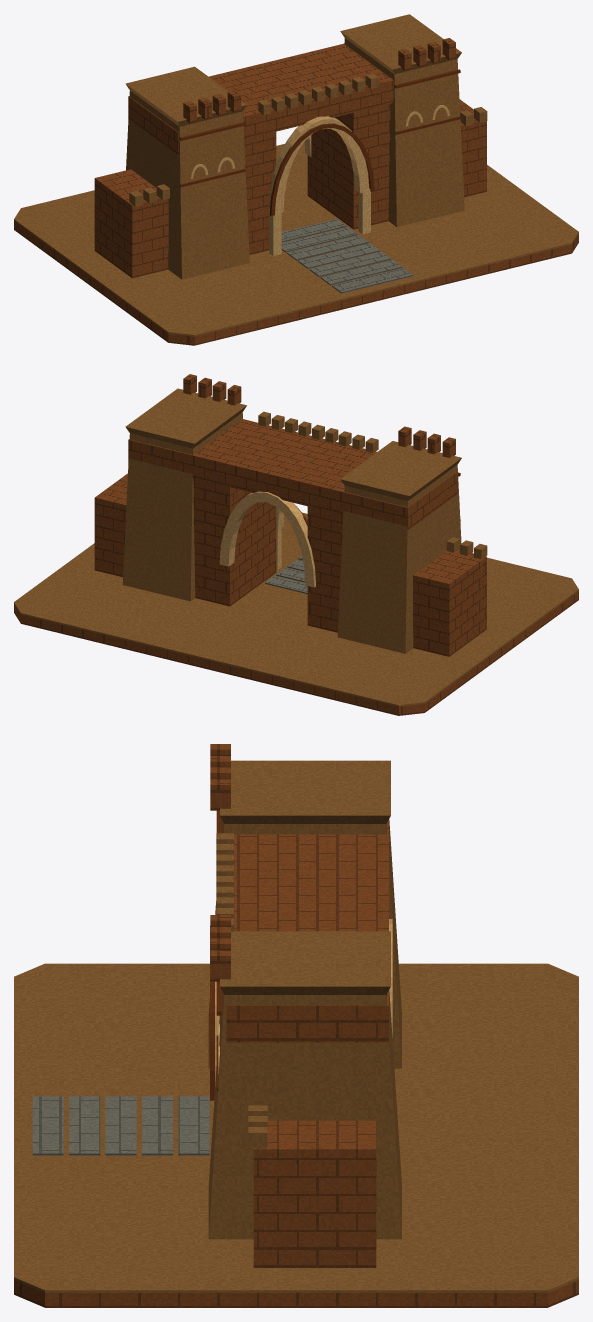
The model's file is kashgar-old-city.glb.
3 renders of one model, top to bottom at view 1: azimuth 30°, elevation 25°; view 2: azimuth 150°, elevation 25°; view 3: azimuth 270°, elevation 25°, orthographic. The views are drawn at different scales.
Visible parts, largest first — view 1: 喀什古城; view 2: 喀什古城; view 3: 喀什古城.
Boxes of the visible parts, x1,y1,x2,y2 form: 喀什古城: (14,14,578,345); 喀什古城: (14,374,578,715); 喀什古城: (14,744,578,1307).
Size of the model in its own units: 10.4 by 4.37 by 7.6.
6 materials, 6 textured.
